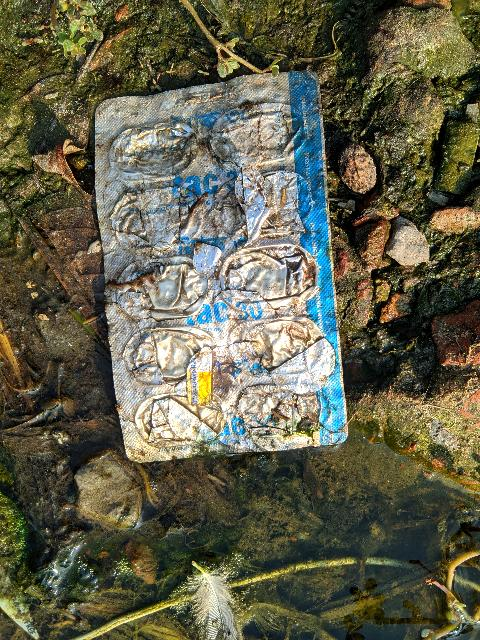medicine: (81, 79, 366, 481)
